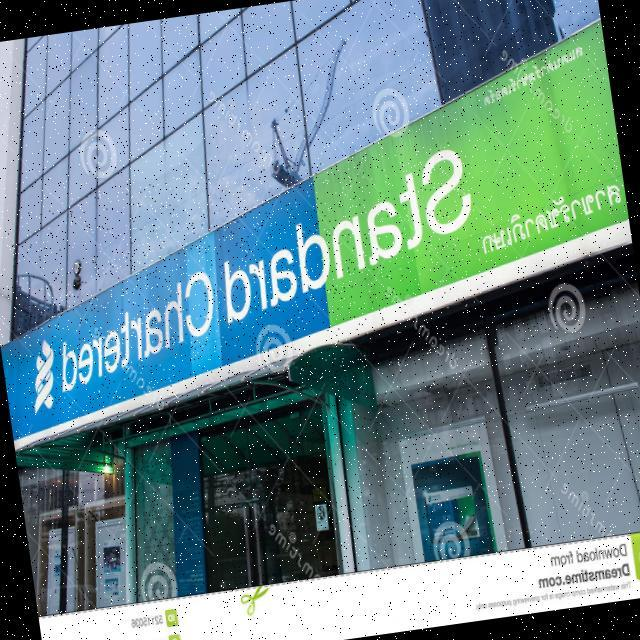Standard Chartered: (4, 140, 495, 419)
